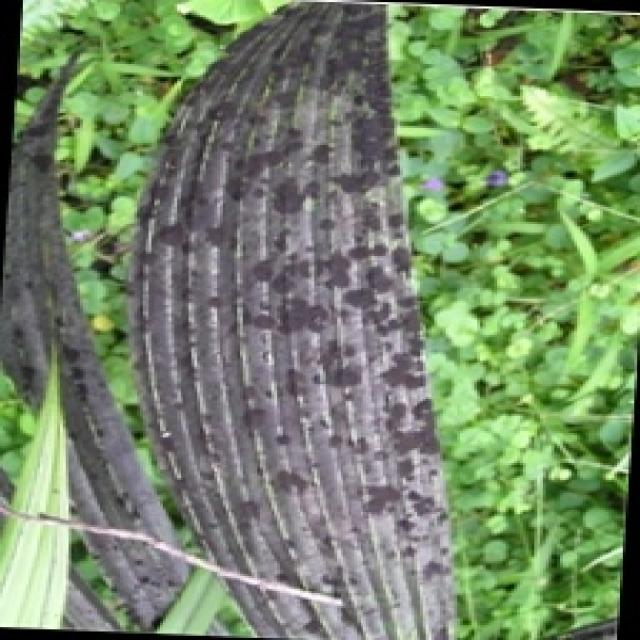Sooty Mold: (123, 0, 460, 638)
